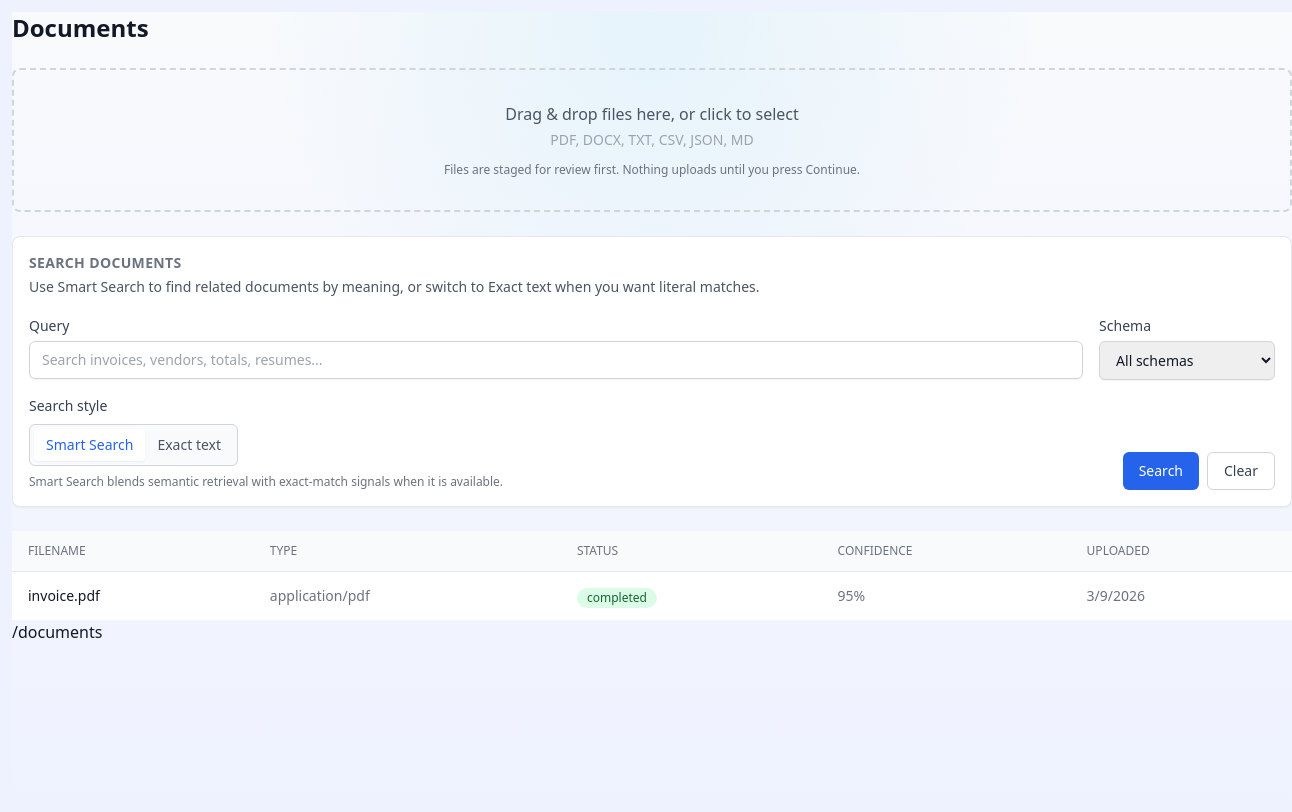
Test: Documents › defaults to Smart Search and renders unified results
expect the text "invoice.pdf" is shown: met, box left=12, top=572, right=254, bottom=620
expect the button "Smart Search" is shown: met, box left=34, top=429, right=145, bottom=461
Step 1. Type "invoice" into the field labelled "Query" → {"x": 556, "y": 360}, box left=29, top=341, right=1083, bottom=379
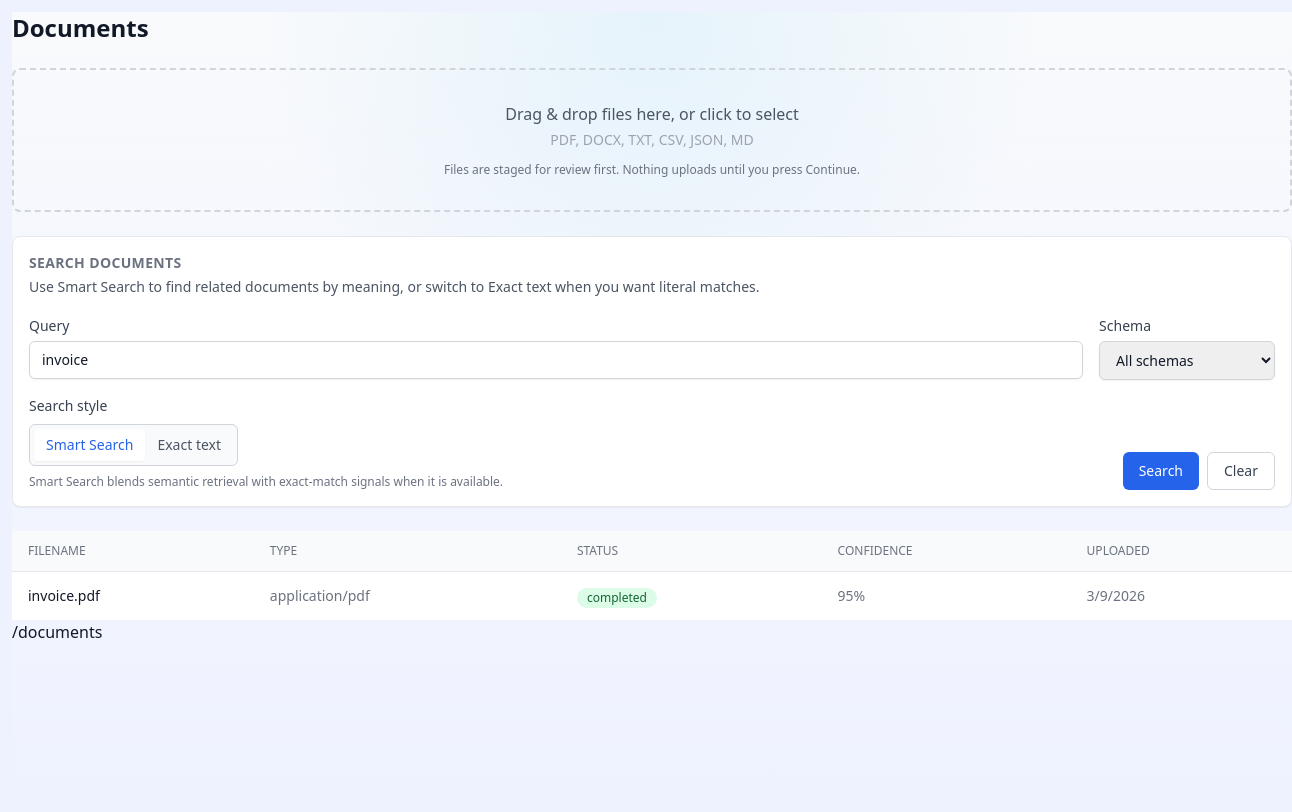
Step 2. Click the button "Search" → {"x": 1161, "y": 471}, box left=1123, top=452, right=1199, bottom=490
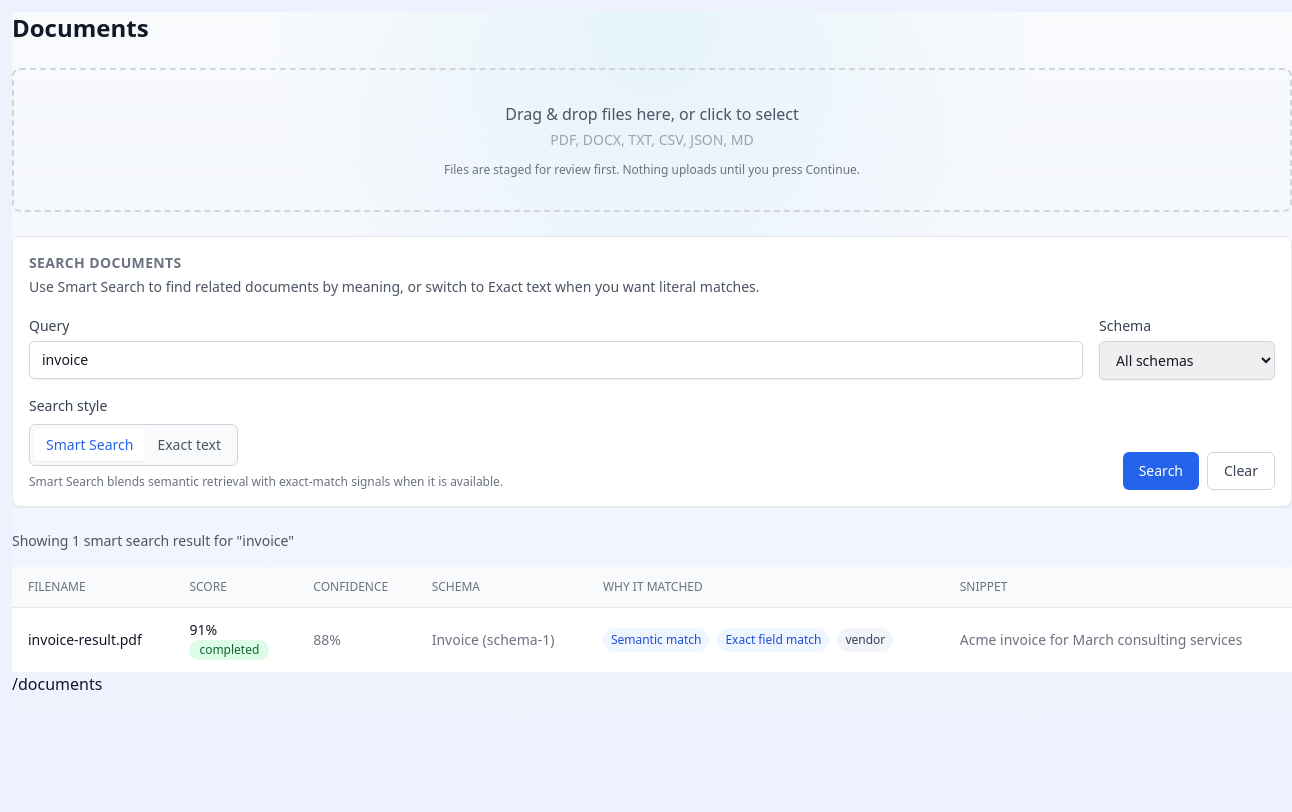
expect the text "Showing 1 smart search result for \"invoice\"" is shown: met, box left=12, top=531, right=294, bottom=551
expect the text "invoice-result.pdf" is shown: met, box left=12, top=608, right=173, bottom=672
expect the text "Semantic match" is shown: met, box left=603, top=628, right=709, bottom=652
